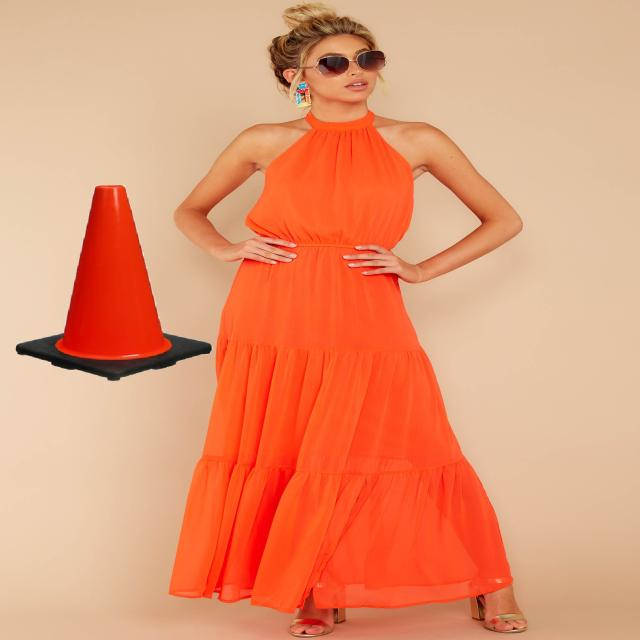traffic cone: (10, 179, 219, 392)
